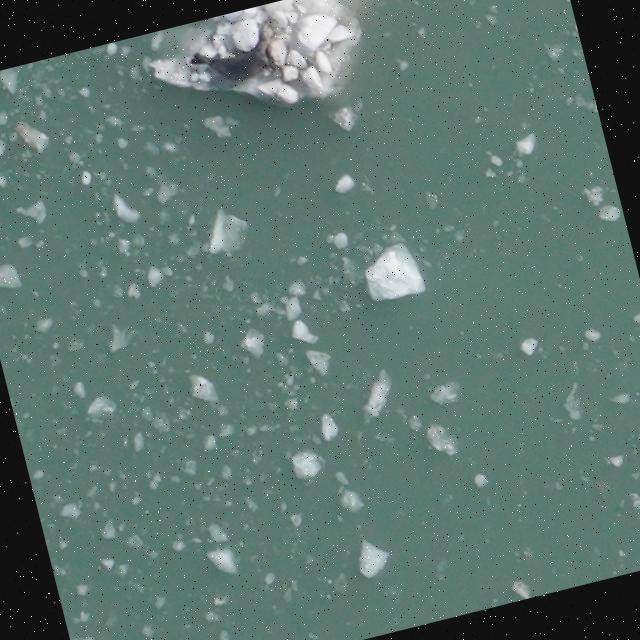seal: (183, 27, 282, 97)
